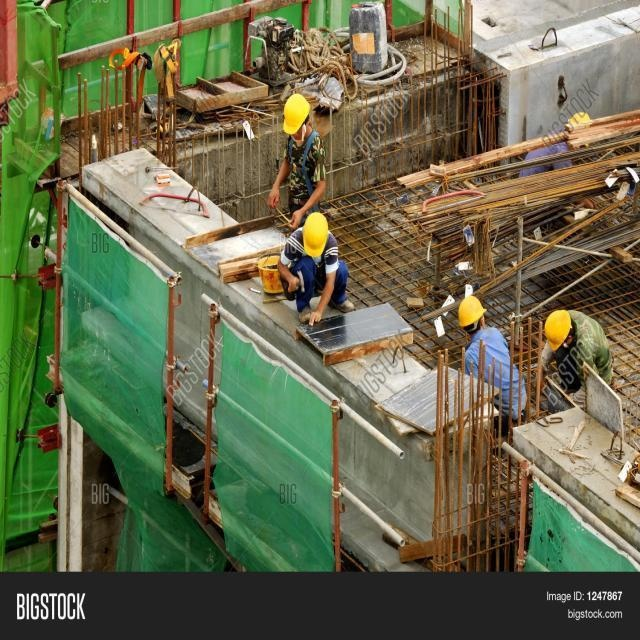Arnes_seguridad: (283, 133, 326, 216)
